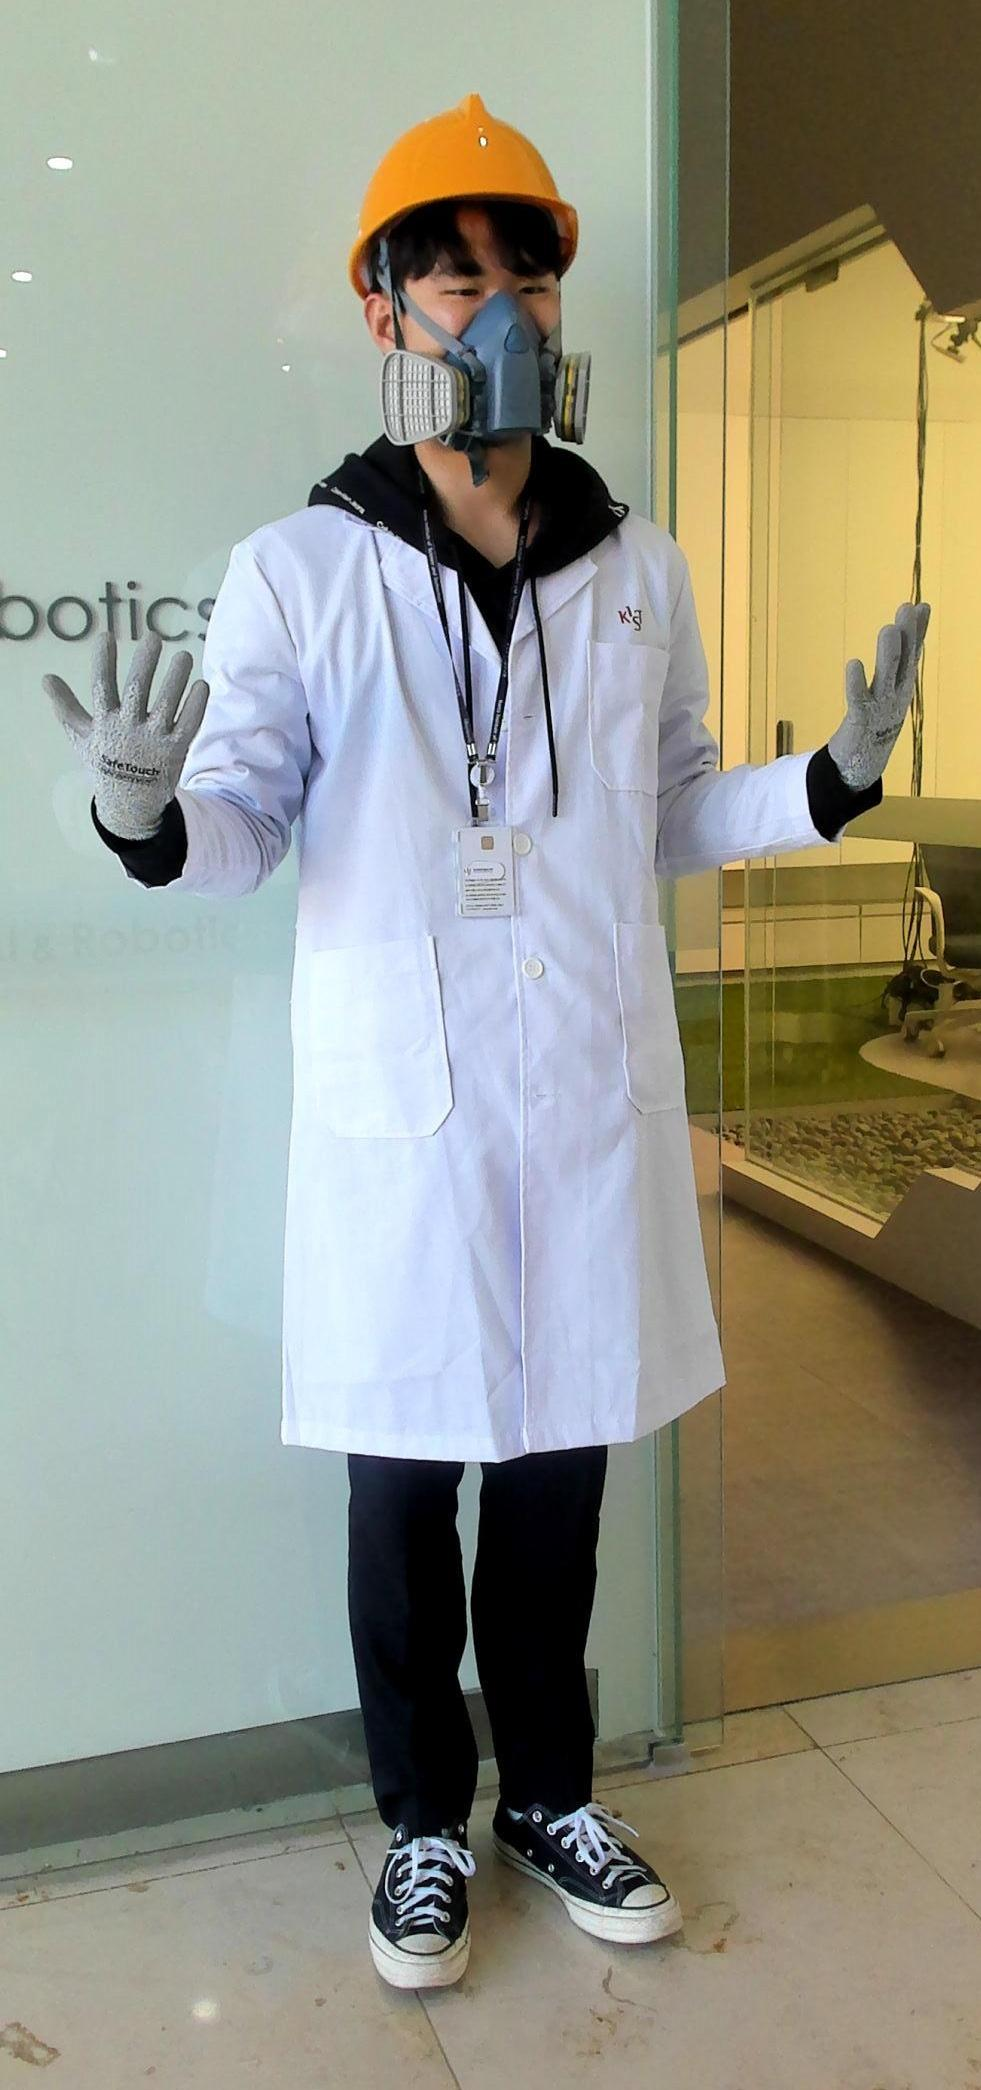lab_coat: (288, 536, 741, 1445)
